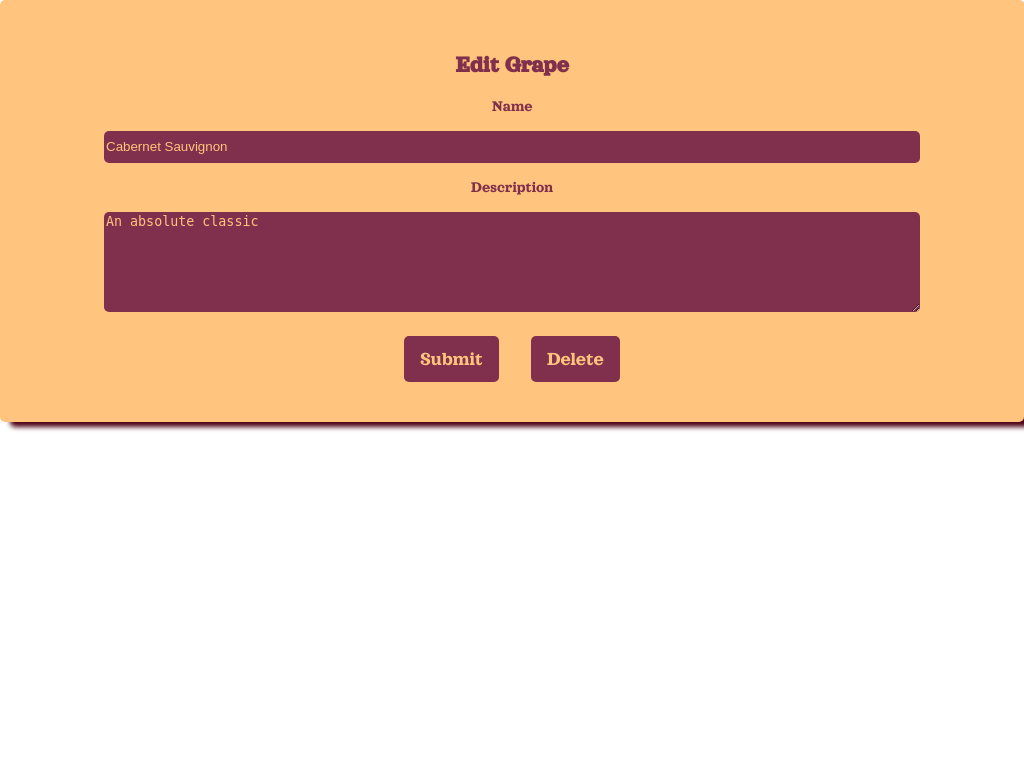
<EditGrape /> › deletes data on button click
Click the button "Delete" at (575, 359), box [531,336,620,382]
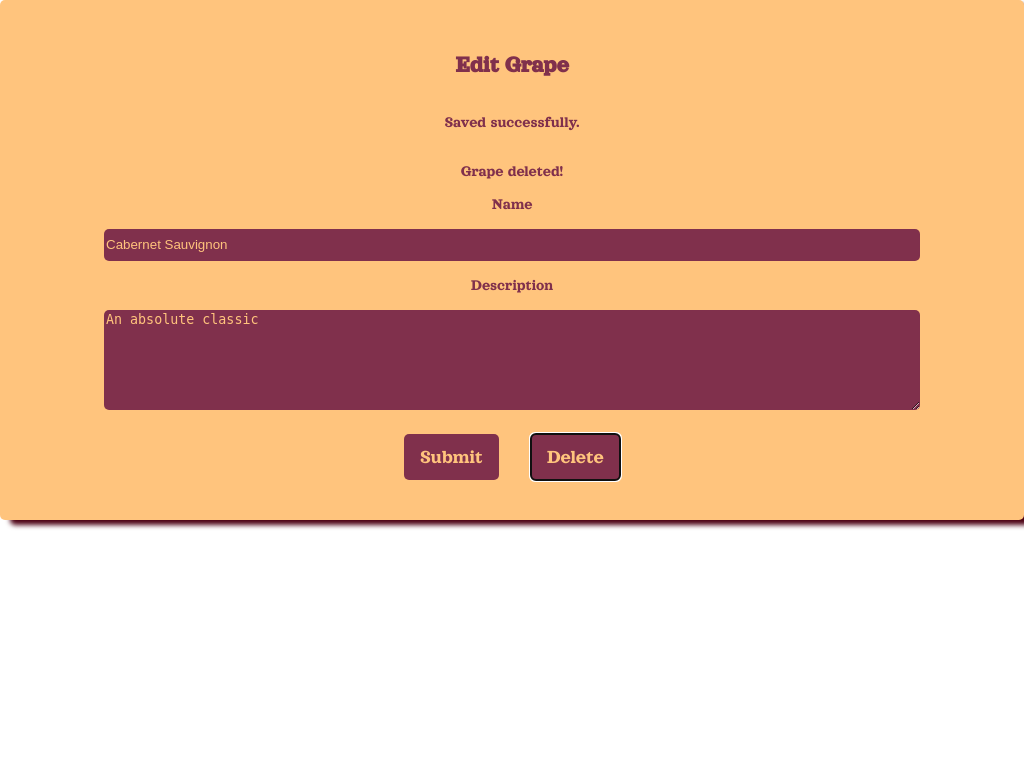
Now the text "Grape deleted!" is shown, box [461,163,563,180]
